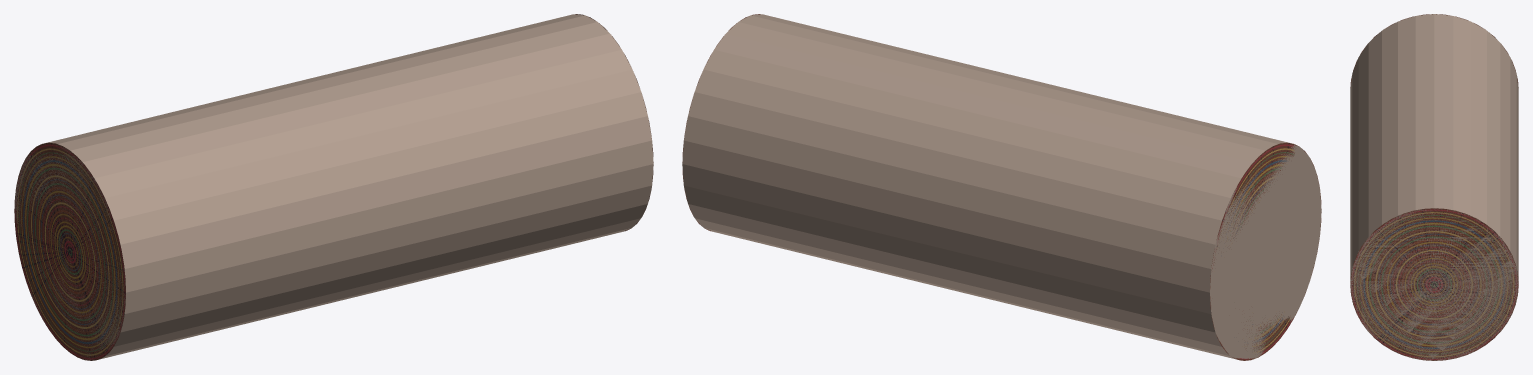
File: petrified-wood.glb
3 views of the same model, side by side, from view 1: azimuth 30°, elevation 25°; view 2: azimuth 150°, elevation 25°; view 3: azimuth 270°, elevation 25° (orthographic). The views are drawn at different scales.
Visible parts, largest first — view 1: log, cut; view 2: log, cut; view 3: log, cut.001, cut.
Part boxes in pixels (box(x1,y1,x2,y2)): log: box(14, 14, 653, 360); cut: box(14, 142, 125, 360); log: box(682, 14, 1321, 360); cut: box(1210, 142, 1321, 360); log: box(1350, 14, 1518, 360); cut.001: box(1350, 208, 1518, 360); cut: box(1350, 14, 1518, 87).
Bounding box in the file's own units: 3 × 1.1 × 1.1.
Materials: 2 (1 with a texture image).
